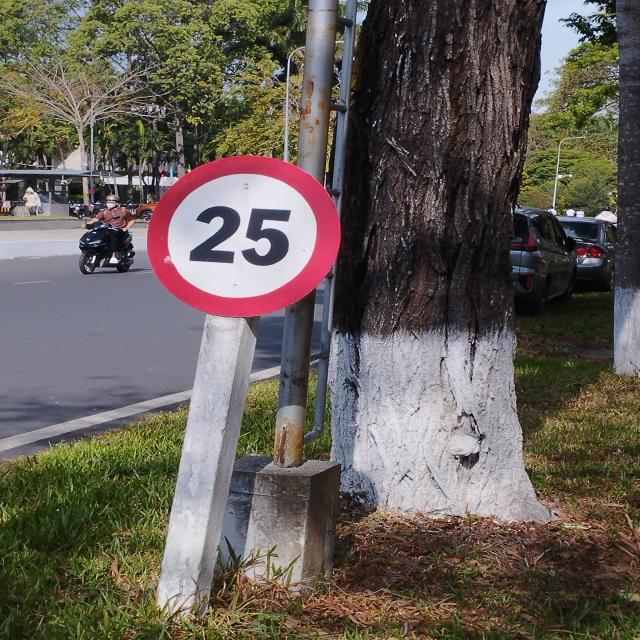Tre_Em: (148, 156, 339, 318)
